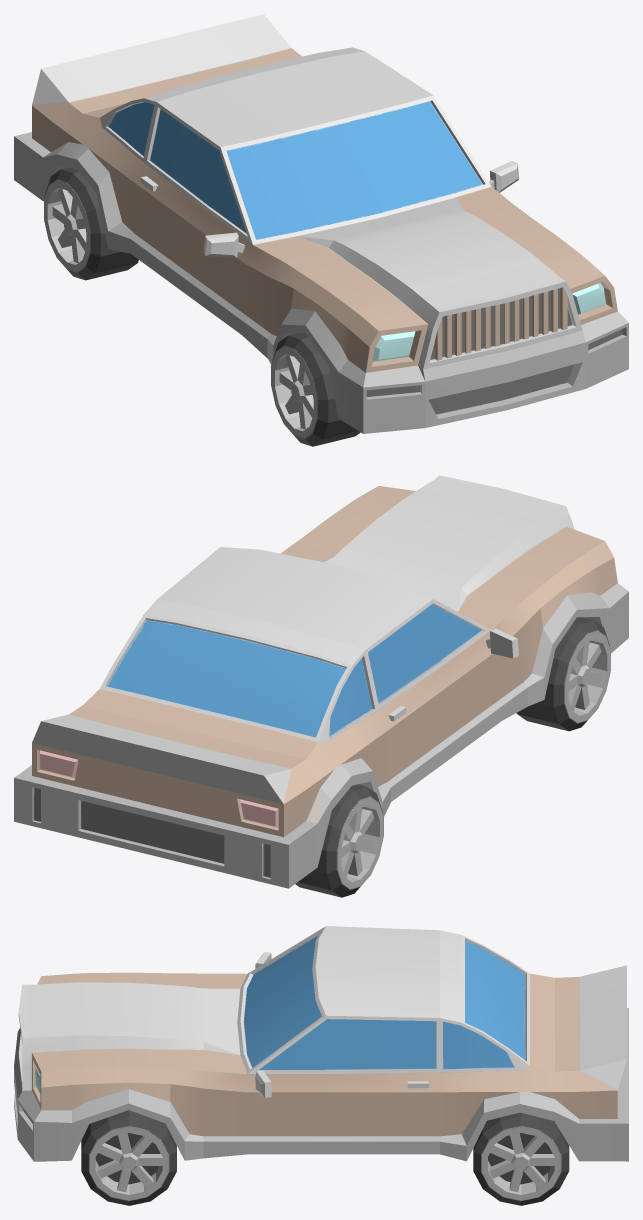
File: ElegantCar.fbx
The picture shows the model from 3 angles, top to bottom: view 1: azimuth 30°, elevation 25°; view 2: azimuth 150°, elevation 25°; view 3: azimuth 270°, elevation 25°; orthographic projection. The views are drawn at different scales.
Parts seen in each view (by area): view 1: body_car, rightWheel, rearWheels; view 2: body_car, rightWheel, rearWheels, breakLights; view 3: body_car, leftWheel, rearWheels.
Part boxes in pixels (box(x1,y1,x2,y2)): body_car: box(14, 14, 628, 433); rightWheel: box(271, 333, 360, 446); rearWheels: box(44, 167, 138, 280); body_car: box(14, 475, 628, 888); rightWheel: box(516, 617, 610, 731); rearWheels: box(295, 784, 383, 897); breakLights: box(39, 750, 278, 827); body_car: box(14, 926, 628, 1161); leftWheel: box(81, 1110, 176, 1205); rearWheels: box(473, 1112, 569, 1205).
Bounding box in the file's own units: 162 × 103 × 320.
Materials: 1 (1 with a texture image).
